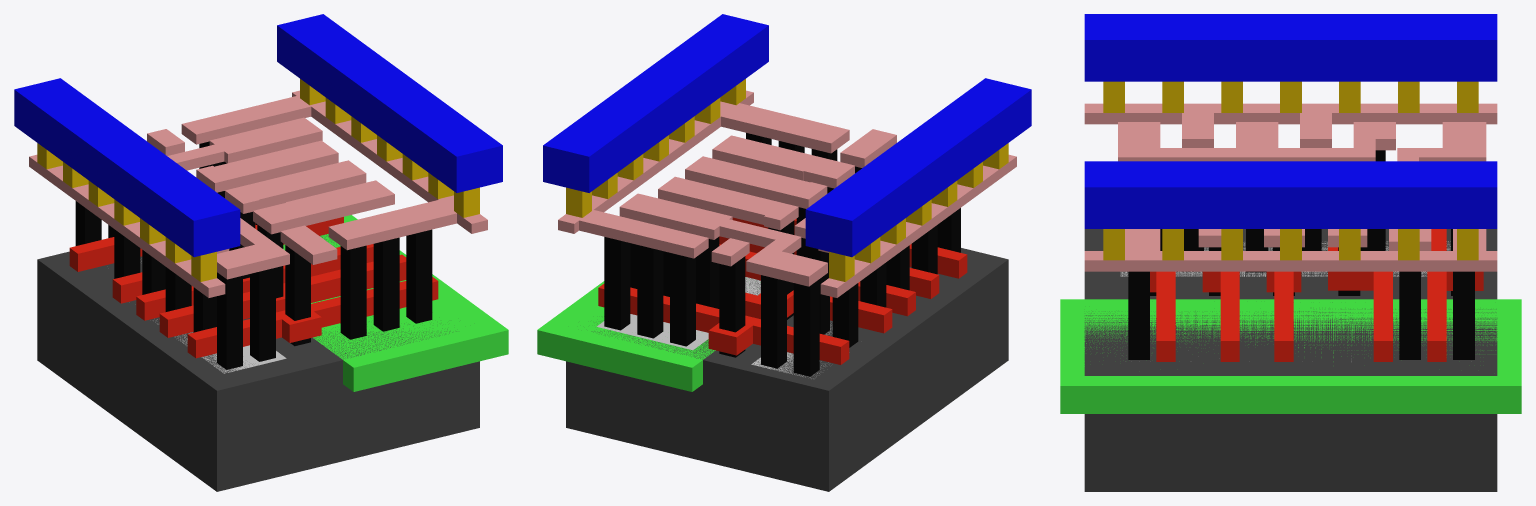
File: sky130_fd_sc_hd__o41ai_1.obj
The picture shows the model from 3 angles, left to right: view 1: azimuth 30°, elevation 25°; view 2: azimuth 150°, elevation 25°; view 3: azimuth 270°, elevation 25°; orthographic projection. The views are drawn at different scales.
Parts seen in each view (by area): view 1: subs, metal1, li, licon, nwell, poly, mcon, diff; view 2: subs, metal1, li, licon, nwell, poly, mcon, tap; view 3: metal1, subs, nwell, li, poly, mcon, licon, diff.
Boxes of the visible parts, x1,y1,x2,y2 form: subs: (37, 234, 479, 491); metal1: (14, 14, 502, 257); li: (29, 90, 487, 297); licon: (75, 141, 432, 369); nwell: (283, 215, 508, 391); poly: (69, 217, 438, 358); mcon: (37, 79, 479, 281); diff: (141, 261, 286, 373); subs: (566, 248, 1008, 491); metal1: (543, 14, 1031, 257); li: (558, 90, 1016, 297); licon: (604, 133, 960, 376); nwell: (537, 278, 760, 391); poly: (598, 217, 967, 364); mcon: (566, 79, 1008, 281); tap: (596, 277, 760, 350); metal1: (1084, 14, 1497, 228); subs: (1084, 229, 1497, 491); nwell: (1060, 299, 1521, 413); li: (1084, 103, 1497, 271); poly: (1150, 229, 1483, 361); mcon: (1103, 81, 1478, 260); licon: (1128, 150, 1474, 359); diff: (1120, 241, 1450, 276).
Bounding box in the file's own units: 3.2 × 2.74 × 3.6.
